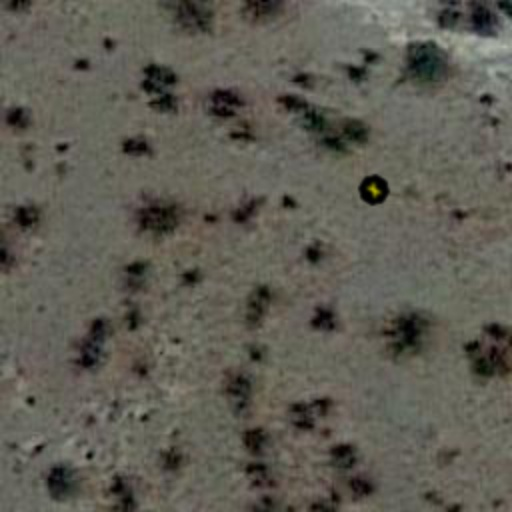octagon: (350, 166, 398, 214)
